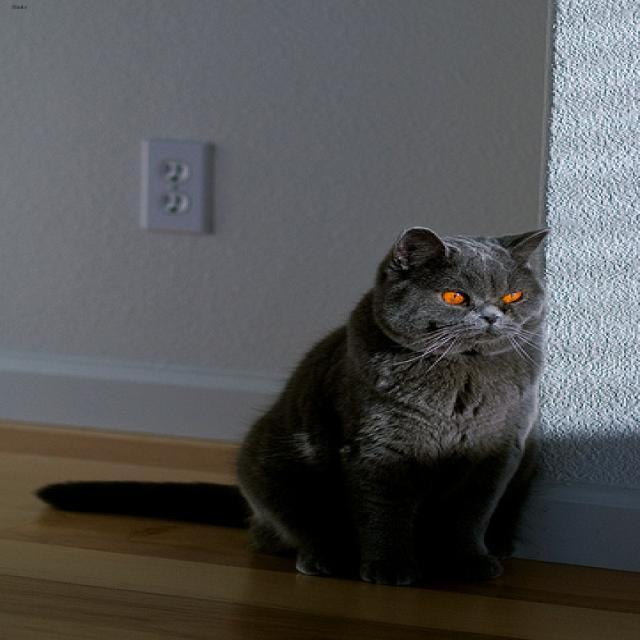British_Shorthair: (348, 212, 567, 375)
